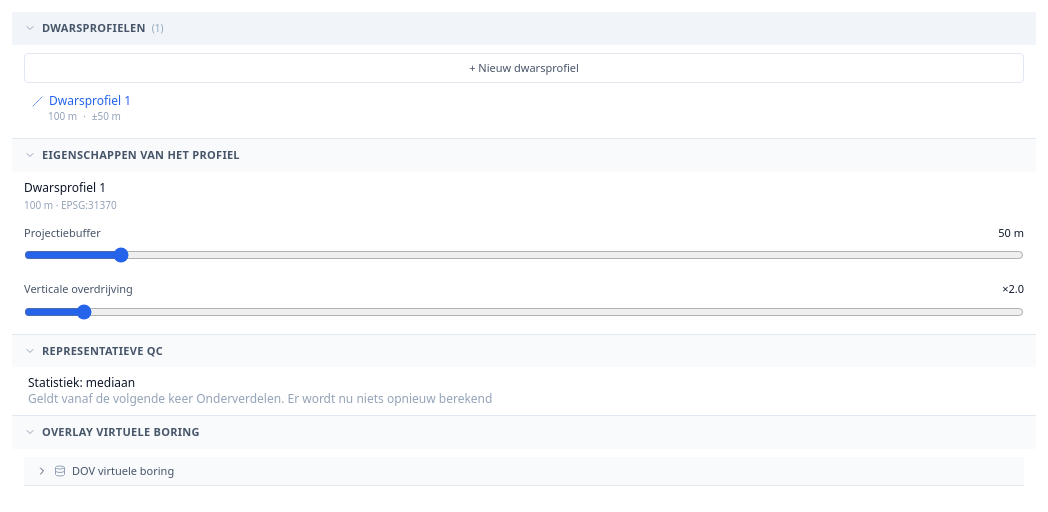
Test case: SectionsInspector — renaming a section › R2 — closing the field unchanged saves nothing, so the name keeps translating
Click the button with test id "section-name-edit" at point(65, 187), box [24,180,1024,196]
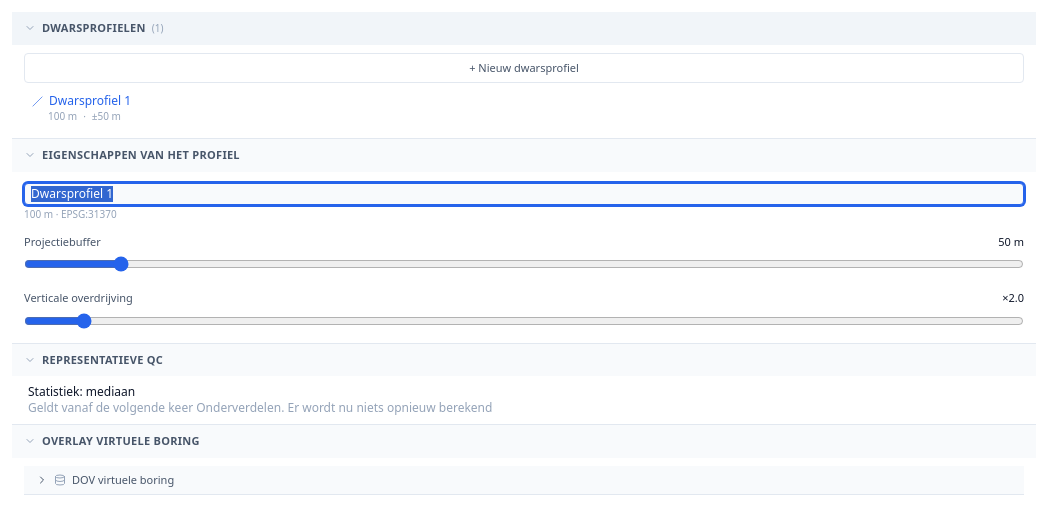
Leave the field with test id "section-name-input", box [24,182,1024,204]
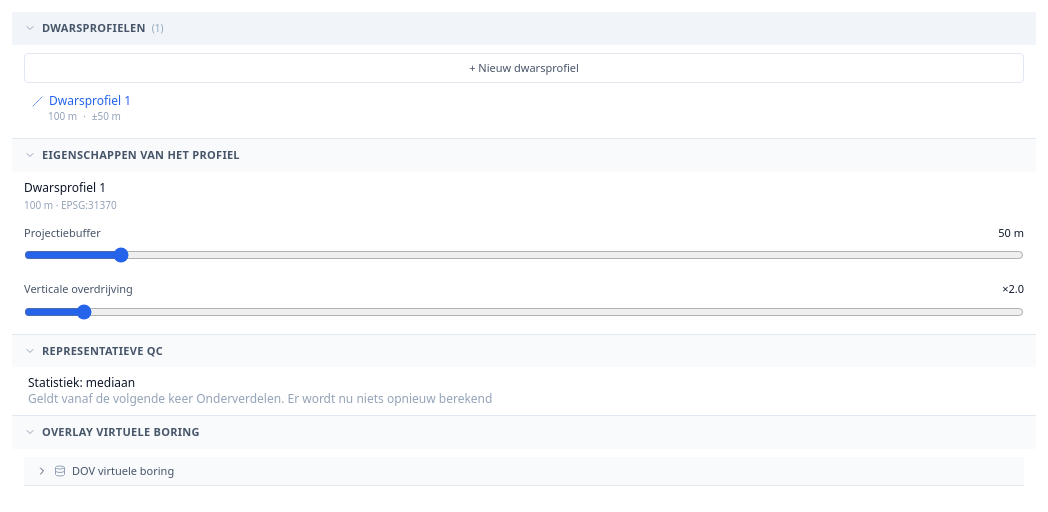
Expected: the button with test id "section-name-edit" reads "Dwarsprofiel 1", [24,180,1024,196]
